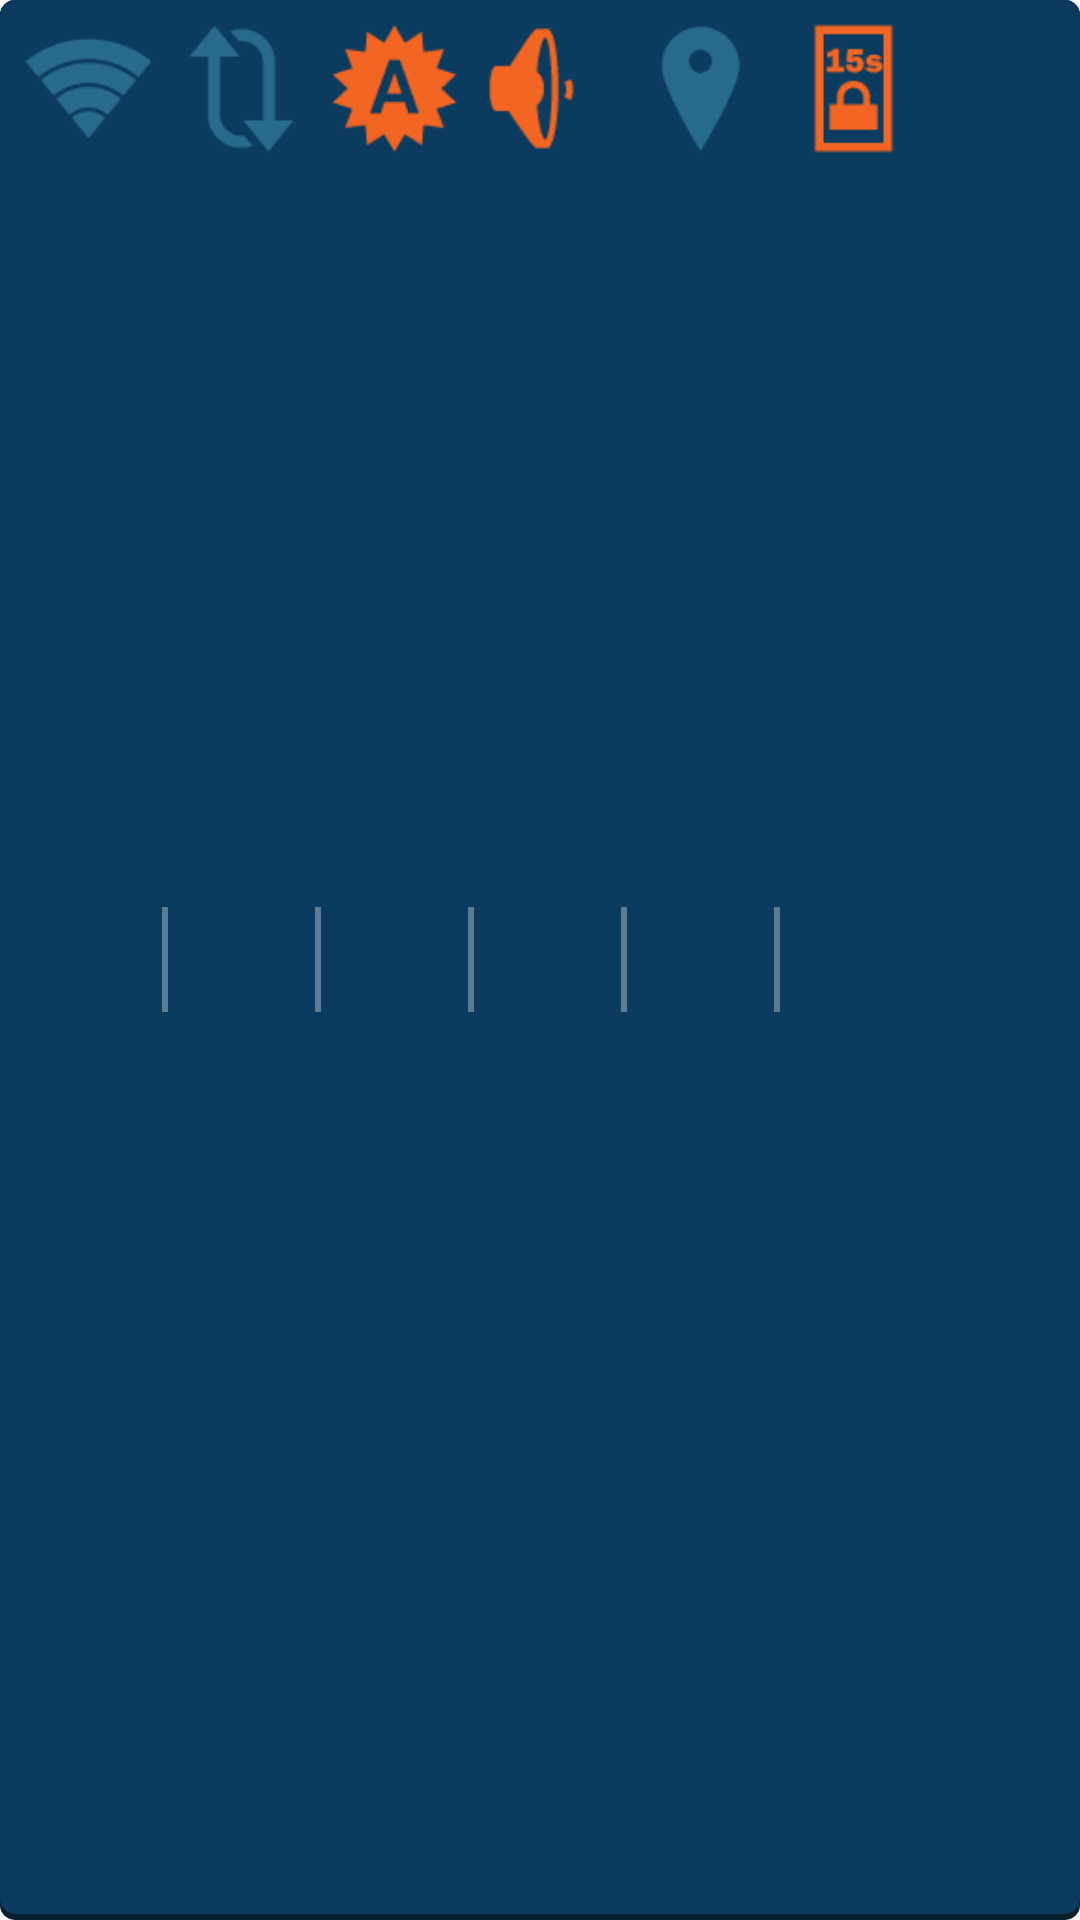

Icons on this 1080 x 1920 Android screen, each with its box as (x1,y1,x2,y2):
bri auto: (332,25,457,152)
data off: (191,26,292,151)
gps off: (662,27,740,150)
time out 15s: (814,24,893,153)
vol low: (489,28,574,149)
wifi off: (26,39,151,137)
